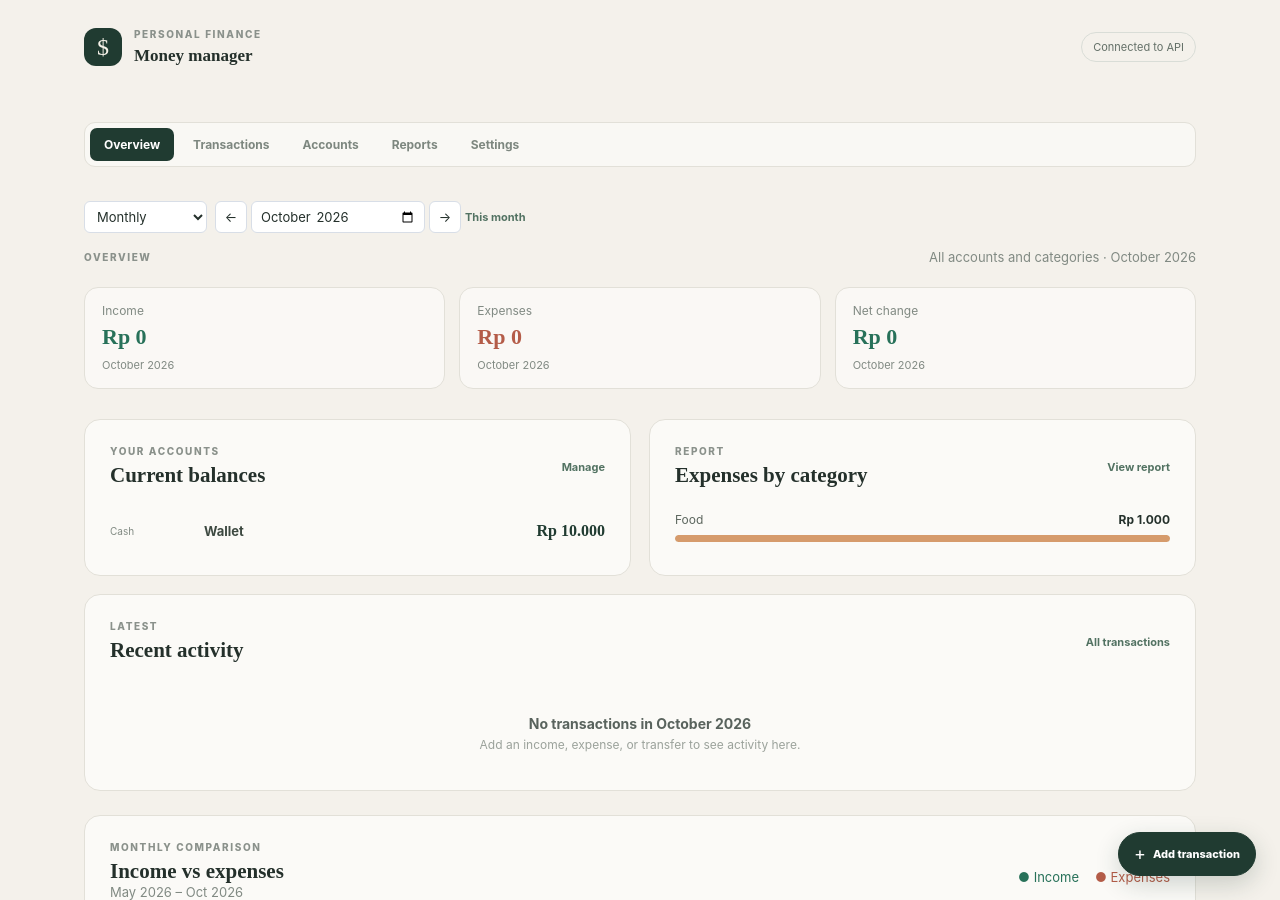
Test: preserves category drilldown and caches matching filters
Check: the heading "Current balances" is shown, box x1=110 y1=463 x2=265 y2=488
Click the button with aria-label "View transactions for Food".
click(1144, 520)  # box x1=675 y1=512 x2=1170 y2=542
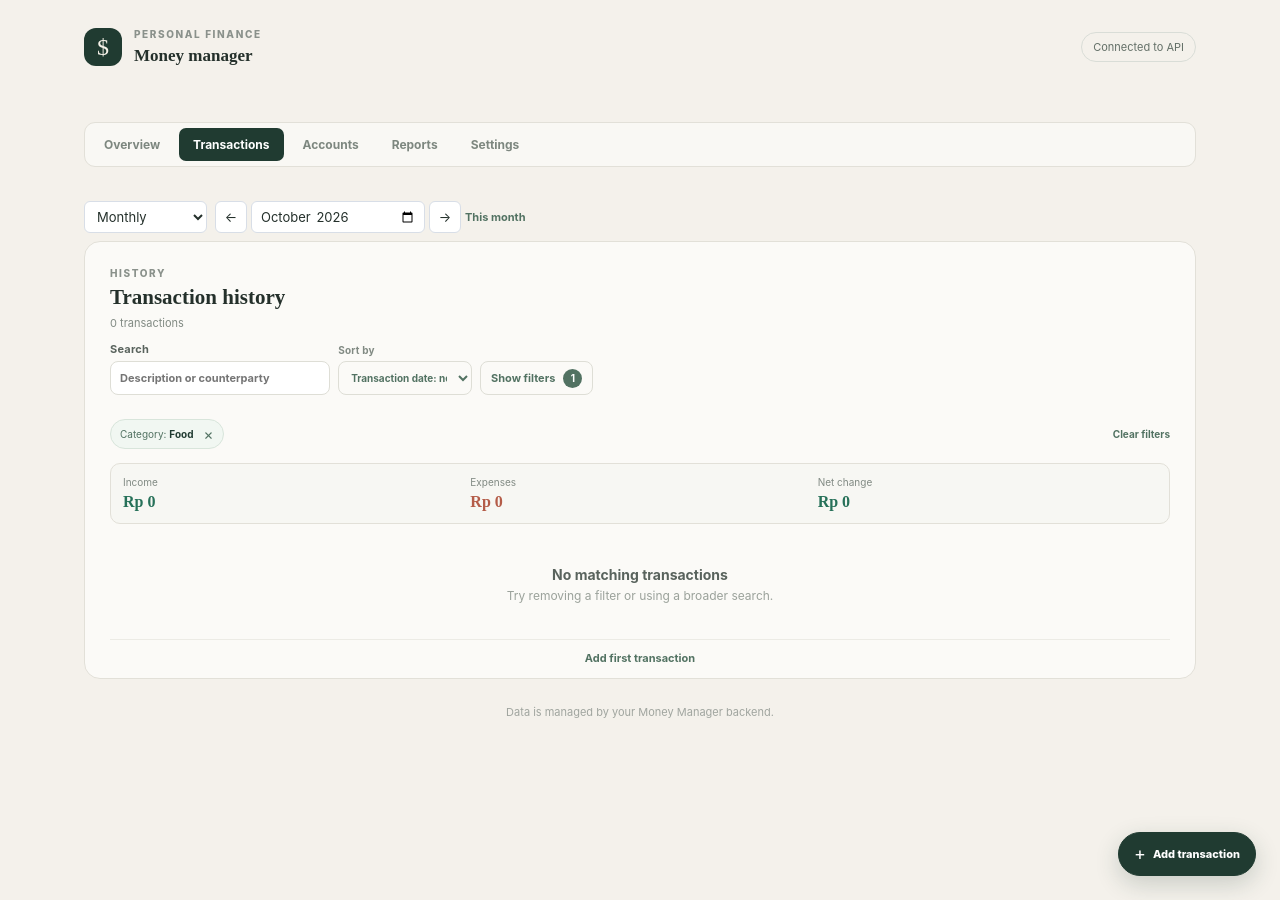
Check: the button named "Remove category filter" is shown, box x1=200 y1=425 x2=218 y2=443
Click the button "Overview".
click(132, 144)  # box x1=90 y1=128 x2=174 y2=161
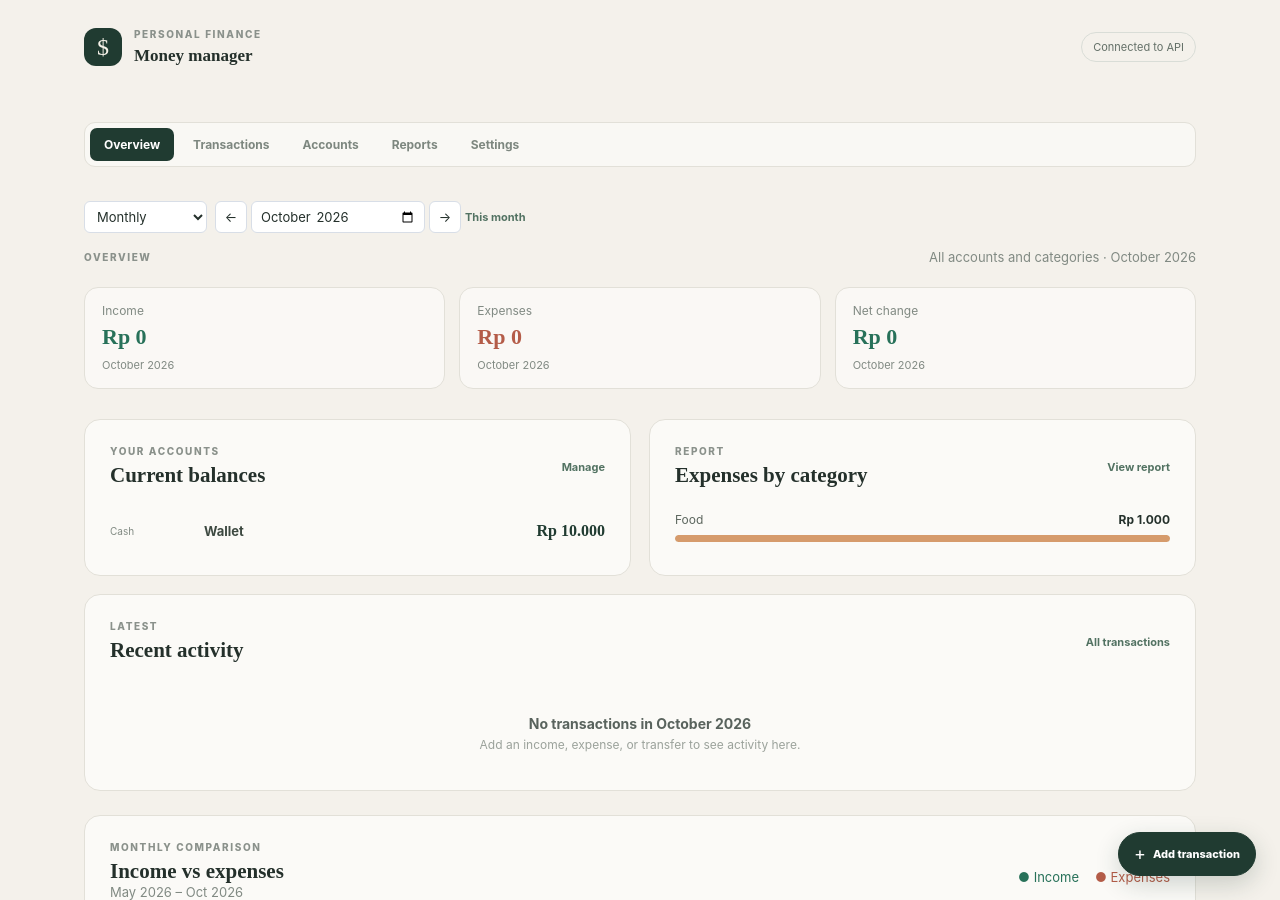
Click the button "Transactions".
click(231, 144)  # box x1=179 y1=128 x2=284 y2=161
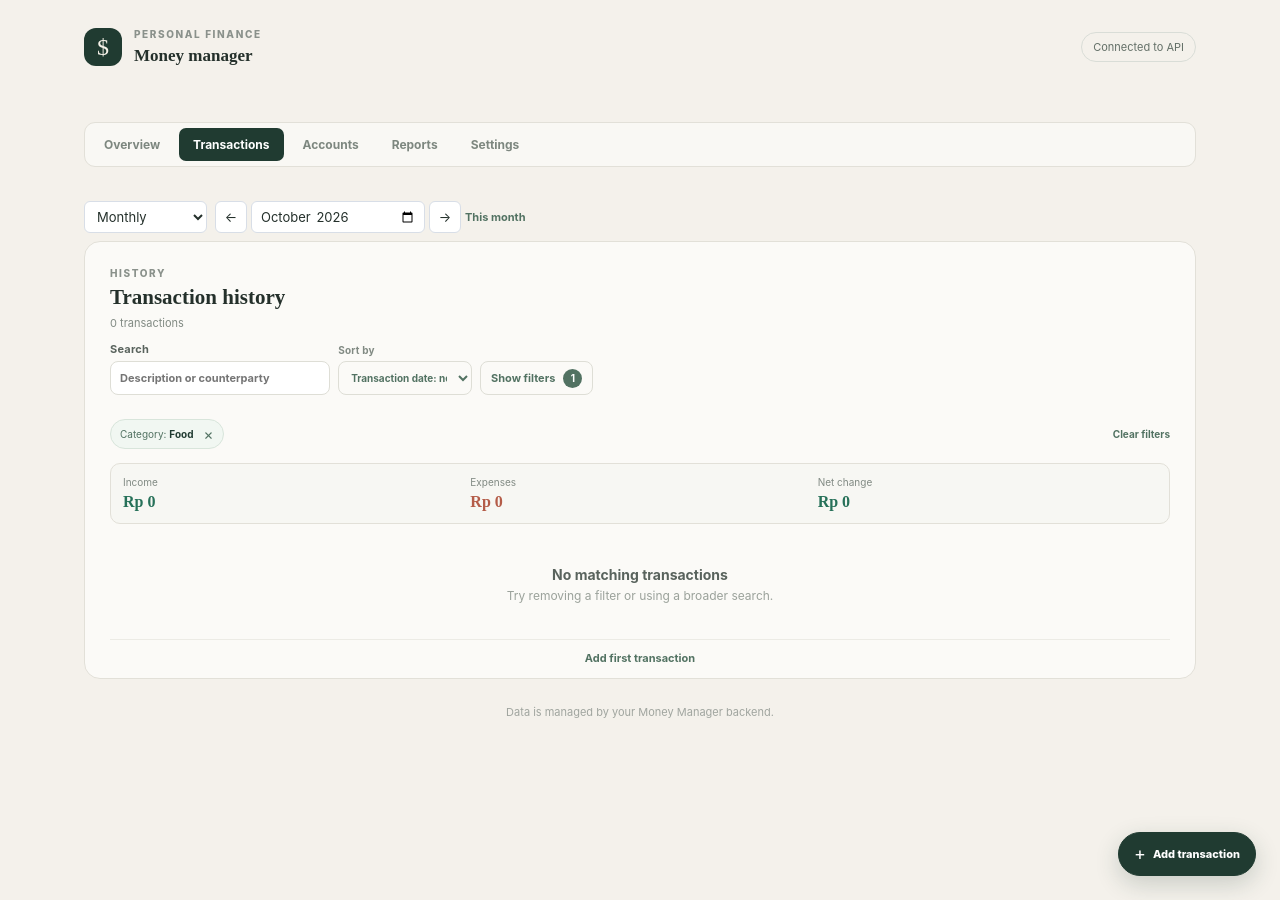
Check: the heading "Transaction history" is shown, box x1=110 y1=285 x2=285 y2=309
